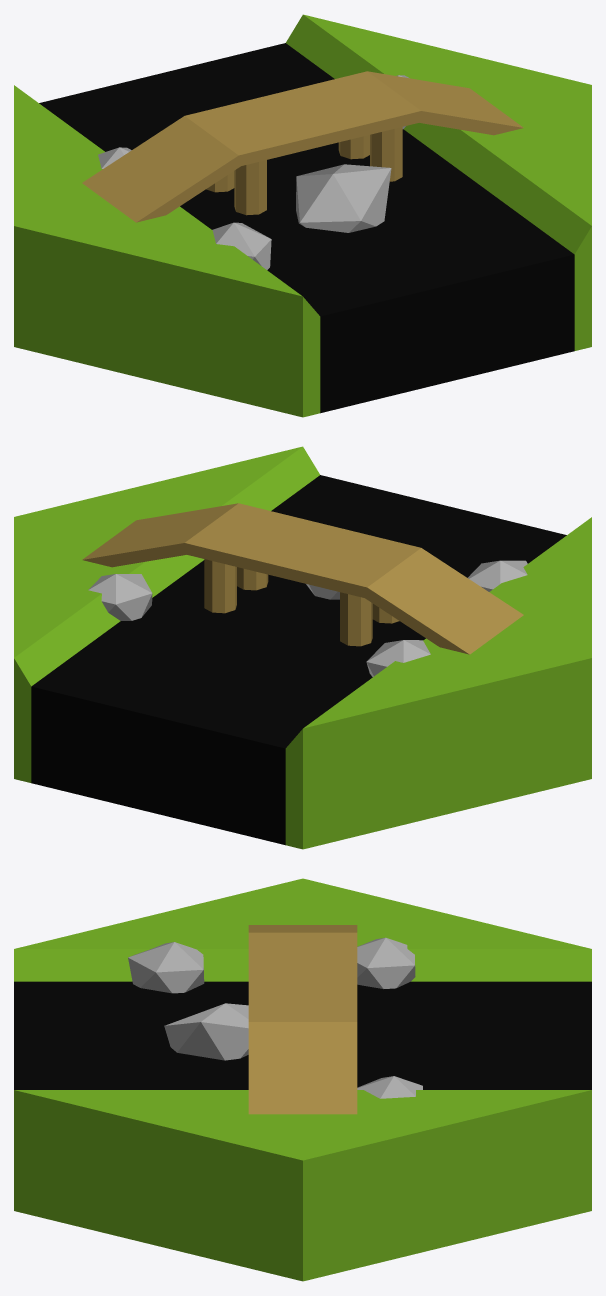
Rendered from Casas_Rio_1.fbx.
The picture shows the model from 3 angles, top to bottom: view 1: azimuth 30°, elevation 25°; view 2: azimuth 150°, elevation 25°; view 3: azimuth 270°, elevation 25°; orthographic projection.
Visible parts, largest first — view 1: Rio_1; view 2: Rio_1; view 3: Rio_1.
Part boxes in pixels (bbox=[...]): Rio_1: bbox=[14, 14, 591, 417]; Rio_1: bbox=[14, 446, 591, 849]; Rio_1: bbox=[14, 878, 591, 1281].
Size of the model in its own units: 200 by 53.93 by 173.
